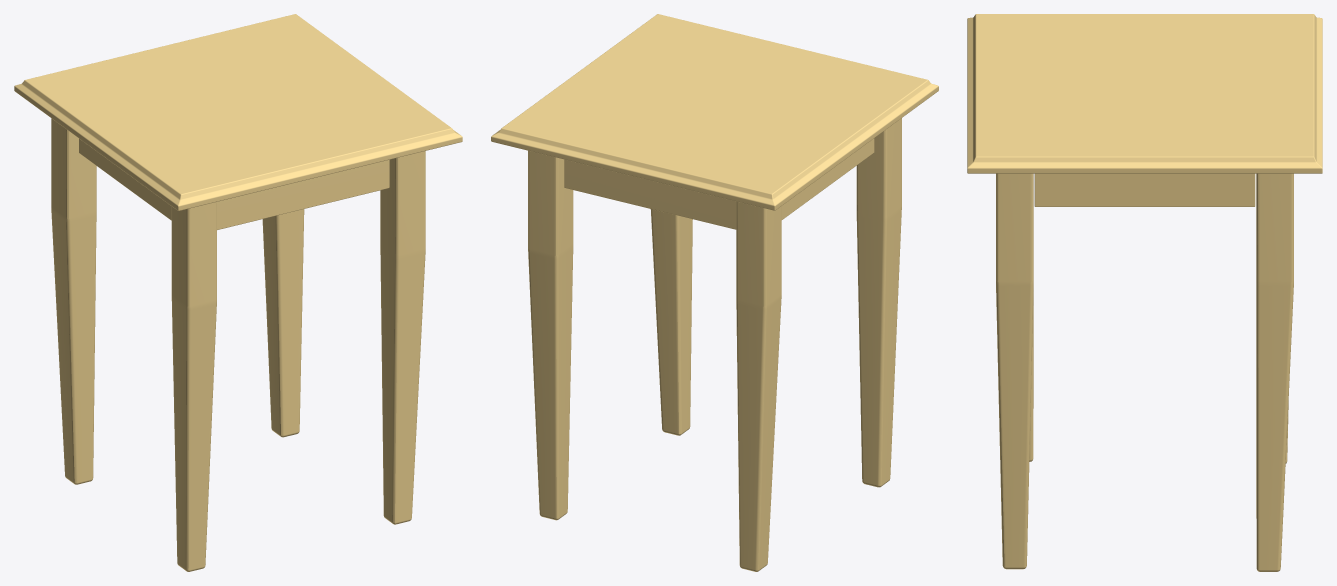
File: asset.glb
3 renders of one model, left to right at view 1: azimuth 30°, elevation 25°; view 2: azimuth 150°, elevation 25°; view 3: azimuth 270°, elevation 25°, orthographic. The views are drawn at different scales.
Parts seen in each view (by area): view 1: Side Table; view 2: Side Table; view 3: Side Table.
Boxes of the visible parts, bbox=[...] form: Side Table: bbox=[14, 14, 462, 571]; Side Table: bbox=[491, 14, 938, 571]; Side Table: bbox=[967, 14, 1322, 571].
Size of the model in its own units: 0.6371 by 0.8462 by 0.6371.
